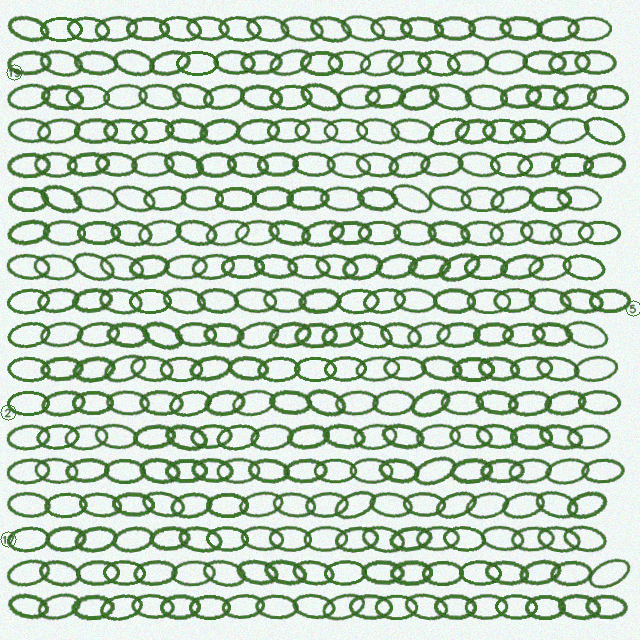chain: (584, 552, 635, 594), (386, 178, 437, 219), (434, 247, 484, 287), (330, 485, 380, 525), (68, 247, 119, 286), (409, 451, 460, 490), (296, 77, 346, 116), (579, 111, 629, 150), (36, 179, 86, 218), (100, 349, 150, 388), (406, 383, 455, 422), (424, 112, 474, 150), (137, 316, 187, 354), (432, 486, 481, 524), (561, 316, 611, 353), (532, 486, 582, 523), (266, 44, 315, 81), (109, 181, 159, 217), (160, 146, 208, 183), (302, 384, 350, 421), (563, 486, 611, 523), (4, 11, 53, 47), (487, 181, 536, 217), (233, 317, 282, 353), (319, 589, 368, 625), (338, 11, 387, 46), (357, 45, 406, 80), (139, 487, 188, 522), (4, 555, 53, 590), (35, 589, 84, 624), (110, 45, 158, 80), (169, 79, 217, 114), (426, 79, 474, 114), (347, 317, 395, 352), (37, 46, 86, 80), (203, 216, 252, 250), (298, 216, 347, 250), (97, 250, 146, 284), (497, 250, 546, 284), (166, 386, 215, 420), (536, 420, 585, 454), (463, 488, 512, 522), (97, 590, 146, 624), (307, 12, 355, 46), (146, 46, 194, 80), (200, 80, 248, 114), (265, 216, 313, 250), (377, 318, 425, 352), (162, 420, 210, 454), (499, 488, 547, 522), (359, 522, 407, 556), (36, 556, 84, 590), (200, 556, 248, 590), (550, 80, 599, 113), (402, 590, 451, 623), (544, 114, 592, 147), (455, 148, 503, 181), (136, 216, 184, 249), (373, 250, 421, 283), (160, 284, 208, 317), (5, 318, 53, 351), (405, 318, 453, 351), (230, 386, 278, 419), (237, 488, 285, 521), (561, 522, 609, 555), (261, 556, 309, 589), (244, 12, 291, 45), (5, 80, 52, 113), (386, 148, 433, 181), (426, 182, 473, 215), (5, 216, 52, 249), (173, 216, 220, 249), (339, 250, 386, 283), (266, 318, 313, 351), (187, 352, 234, 385), (418, 352, 465, 385), (379, 420, 426, 453), (234, 556, 281, 589), (517, 556, 564, 589), (5, 590, 52, 623), (278, 13, 326, 45), (35, 115, 83, 147), (354, 115, 402, 147), (526, 251, 574, 283), (560, 251, 608, 283), (97, 285, 145, 317), (526, 285, 574, 317), (557, 285, 605, 317), (534, 353, 582, 385), (39, 387, 87, 419), (543, 455, 591, 487), (367, 489, 415, 521), (176, 523, 224, 555), (535, 523, 583, 555), (415, 47, 462, 79), (515, 149, 562, 181), (108, 217, 155, 249), (425, 217, 472, 249), (313, 251, 360, 283), (319, 319, 366, 351), (70, 353, 117, 385), (542, 387, 589, 419), (214, 421, 261, 453), (248, 421, 295, 453), (168, 489, 215, 521), (72, 523, 119, 555), (110, 523, 157, 555), (387, 523, 434, 555), (290, 557, 337, 589), (396, 81, 442, 113), (197, 115, 243, 147), (376, 455, 422, 487), (157, 13, 204, 44), (136, 81, 183, 112), (252, 251, 299, 282), (35, 285, 82, 316), (361, 285, 408, 316), (38, 319, 85, 350), (128, 353, 175, 384), (572, 353, 619, 384), (473, 387, 520, 418), (320, 421, 367, 452), (352, 421, 399, 452), (479, 523, 526, 554), (290, 591, 337, 622), (225, 149, 271, 180), (518, 217, 564, 248), (190, 251, 236, 282), (75, 319, 121, 350), (202, 387, 248, 418), (93, 421, 139, 452), (474, 421, 520, 452), (137, 455, 183, 486), (556, 591, 602, 622), (398, 14, 445, 44), (72, 48, 119, 78), (234, 116, 281, 146), (389, 116, 436, 146), (325, 150, 372, 180), (354, 150, 401, 180), (72, 184, 119, 214), (32, 252, 79, 282), (5, 286, 52, 316), (354, 354, 401, 384), (506, 388, 553, 418), (5, 422, 52, 452), (63, 422, 110, 452), (5, 456, 52, 486), (5, 524, 52, 554), (333, 524, 380, 554), (483, 558, 530, 588), (70, 285, 115, 316), (65, 14, 111, 44), (39, 82, 85, 112), (238, 82, 284, 112), (463, 82, 509, 112), (163, 116, 209, 146), (581, 150, 627, 180), (406, 252, 452, 282), (476, 354, 522, 384), (131, 422, 177, 452), (285, 422, 331, 452), (246, 456, 292, 486), (507, 456, 553, 486), (77, 490, 123, 520), (271, 490, 317, 520), (488, 218, 535, 247), (5, 252, 52, 281), (392, 286, 439, 315), (33, 456, 80, 485), (441, 524, 488, 553), (220, 592, 267, 621), (453, 116, 498, 146), (355, 184, 400, 214), (127, 252, 172, 282), (93, 14, 139, 43), (483, 48, 529, 77), (102, 82, 148, 111), (498, 82, 544, 111), (6, 116, 52, 145), (130, 116, 176, 145), (65, 150, 111, 179), (142, 184, 188, 213), (556, 184, 602, 213), (234, 218, 280, 247), (549, 218, 595, 247), (195, 286, 241, 315), (232, 286, 278, 315), (262, 286, 308, 315), (435, 320, 481, 349), (267, 388, 313, 417), (371, 388, 417, 417), (35, 422, 81, 451), (415, 422, 461, 451), (64, 456, 110, 485), (448, 456, 494, 485), (6, 490, 52, 519), (304, 490, 350, 519), (239, 524, 285, 553), (132, 558, 178, 587), (130, 592, 176, 621), (185, 14, 230, 43), (217, 14, 262, 43), (369, 14, 414, 43), (498, 14, 543, 43), (535, 14, 580, 43), (212, 48, 257, 77), (363, 82, 408, 111), (94, 150, 139, 179), (419, 150, 464, 179), (392, 218, 437, 247), (297, 286, 342, 315), (105, 320, 150, 349), (530, 320, 575, 349), (226, 354, 271, 383), (189, 422, 234, 451), (448, 422, 493, 451), (190, 456, 235, 485), (6, 49, 52, 77), (386, 49, 432, 77), (268, 83, 314, 111), (102, 117, 148, 145), (481, 117, 527, 145), (319, 185, 365, 213), (163, 253, 209, 281), (286, 253, 332, 281), (335, 287, 381, 315), (256, 355, 302, 383), (105, 389, 151, 417), (334, 389, 380, 417), (282, 457, 328, 485), (479, 457, 525, 485), (580, 457, 626, 485), (510, 525, 556, 553), (170, 559, 216, 587), (254, 593, 300, 621), (44, 524, 88, 553), (148, 524, 192, 553), (547, 49, 592, 77), (336, 83, 381, 111), (524, 83, 569, 111), (6, 151, 51, 179), (459, 219, 504, 247), (293, 321, 338, 349), (501, 321, 546, 349), (6, 355, 51, 383), (39, 355, 84, 383), (566, 423, 611, 451), (43, 491, 88, 519), (549, 559, 594, 587), (70, 593, 115, 621), (584, 593, 629, 621), (467, 15, 513, 42), (521, 49, 567, 76), (138, 389, 184, 416), (415, 525, 461, 552), (202, 321, 246, 349), (239, 49, 284, 76), (573, 49, 618, 76), (73, 117, 118, 144), (266, 117, 311, 144), (294, 117, 339, 144), (33, 151, 78, 178), (130, 151, 175, 178), (291, 151, 336, 178), (285, 185, 330, 212), (492, 287, 537, 314), (382, 355, 427, 382), (509, 355, 554, 382), (577, 389, 622, 416), (216, 457, 261, 484), (349, 457, 394, 484), (402, 491, 447, 518), (303, 525, 348, 552), (75, 559, 120, 586), (360, 559, 405, 586), (348, 593, 393, 620), (464, 593, 509, 620), (494, 593, 539, 620), (433, 15, 477, 42), (446, 49, 490, 76), (256, 151, 300, 178), (489, 151, 533, 178), (180, 185, 224, 212), (251, 185, 295, 212), (42, 219, 86, 246), (432, 287, 476, 314), (174, 321, 218, 348), (323, 355, 367, 382), (509, 423, 553, 450), (111, 491, 155, 518), (205, 525, 249, 552), (268, 525, 312, 552), (102, 559, 146, 586), (323, 559, 367, 586), (389, 559, 433, 586), (458, 559, 502, 586), (433, 593, 477, 620), (39, 16, 84, 42), (125, 16, 170, 42), (567, 16, 612, 42), (175, 50, 220, 76), (65, 84, 110, 110), (323, 118, 368, 144), (460, 186, 505, 212), (76, 220, 121, 246), (357, 220, 402, 246), (577, 220, 622, 246), (220, 254, 265, 280), (463, 254, 508, 280), (128, 288, 173, 314), (466, 288, 511, 314), (159, 356, 204, 382), (6, 390, 51, 416), (313, 458, 358, 484), (374, 594, 419, 620), (195, 151, 238, 178), (472, 321, 515, 348), (159, 593, 202, 620), (299, 50, 343, 76), (327, 50, 371, 76), (586, 84, 630, 110), (550, 152, 594, 178), (214, 186, 258, 212), (528, 186, 572, 212), (328, 220, 372, 246), (588, 288, 632, 314), (293, 356, 337, 382), (451, 356, 495, 382), (71, 390, 115, 416), (440, 390, 484, 416), (103, 458, 147, 484), (164, 458, 208, 484), (205, 492, 249, 518), (421, 560, 465, 586), (188, 594, 232, 620), (509, 118, 552, 144), (7, 186, 50, 212), (524, 594, 567, 620)
noise: (4, 62, 24, 82), (0, 529, 18, 549), (0, 402, 18, 422), (623, 298, 640, 318)
